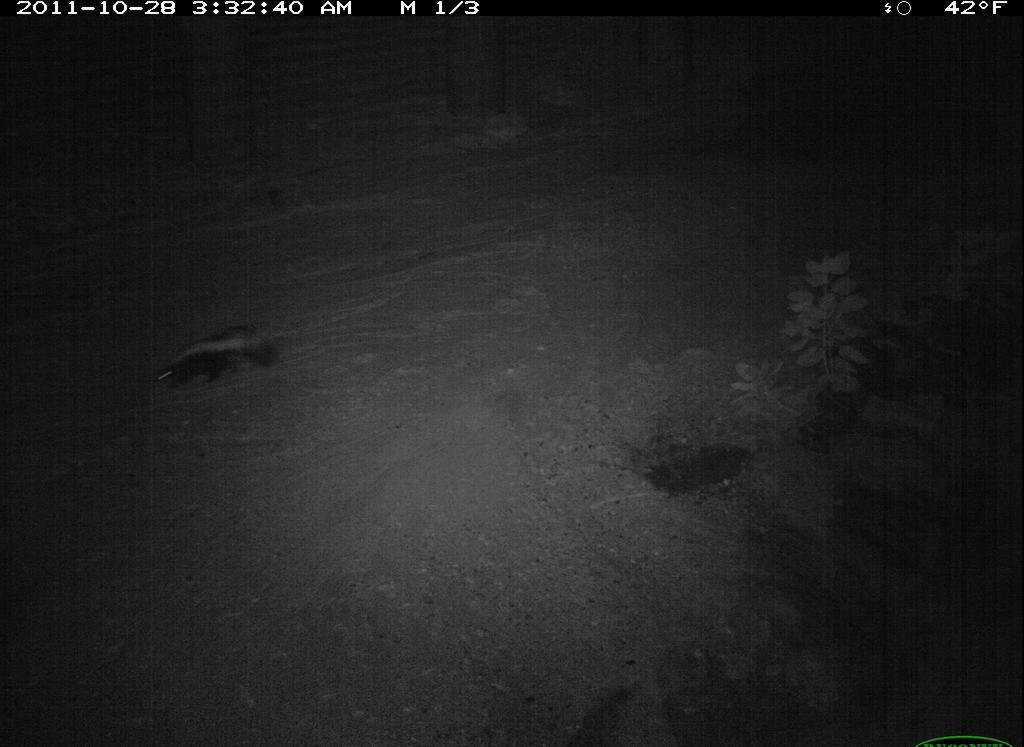skunk: (148, 323, 285, 391)
